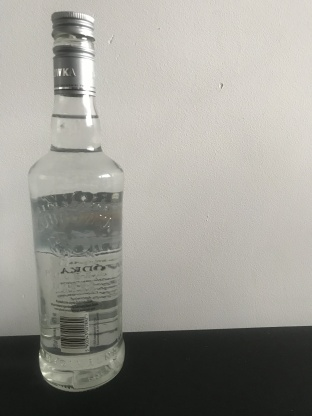nakretka: (49, 9, 97, 96)
